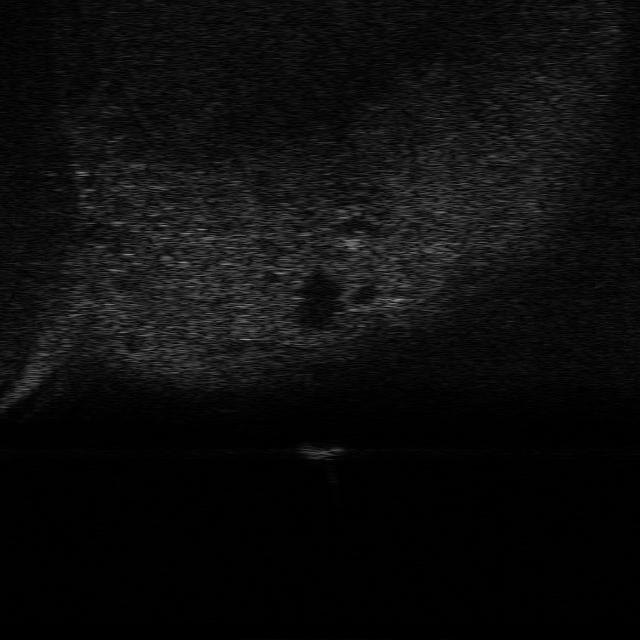cube: (295, 440, 349, 460)
